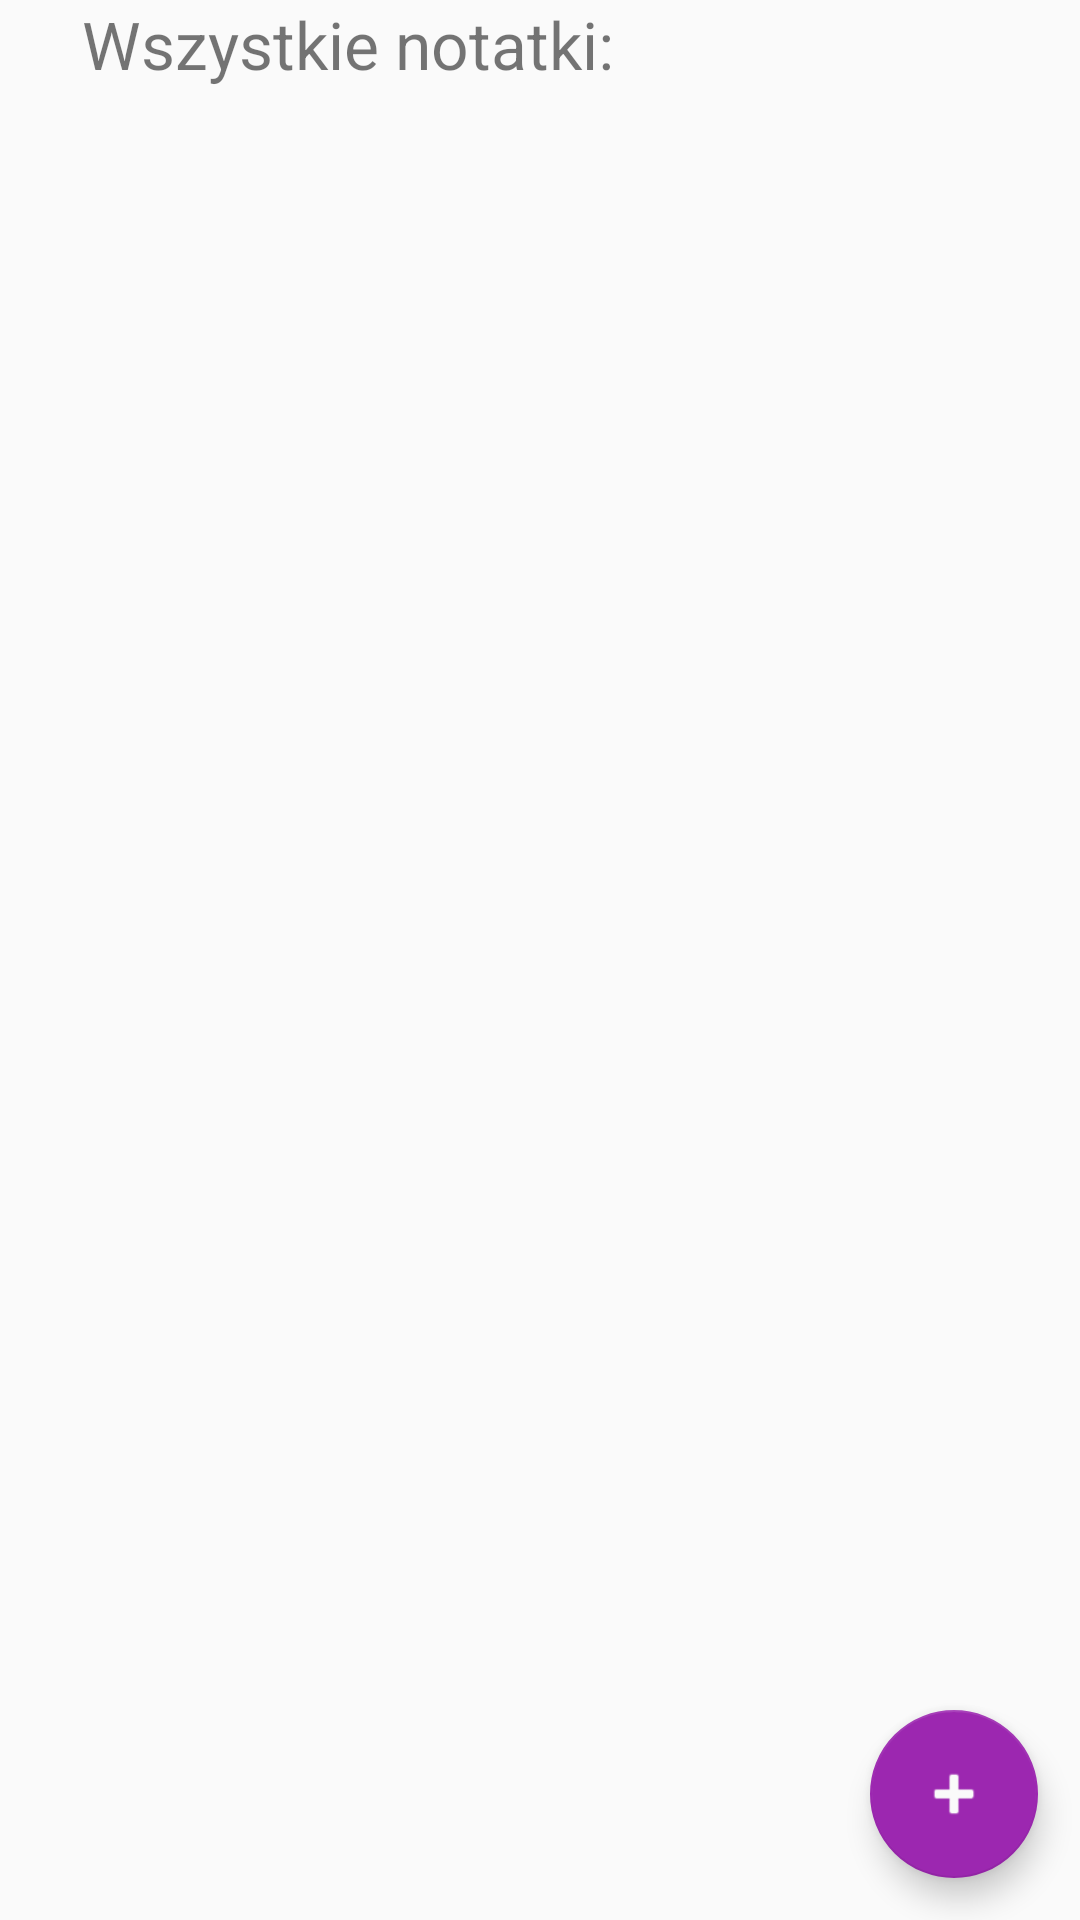

Icons on this 1080*1920 Android screen, each with its box as (x1, y1, x2, y2):
buttonaddnote: (870, 1710, 1038, 1878)
